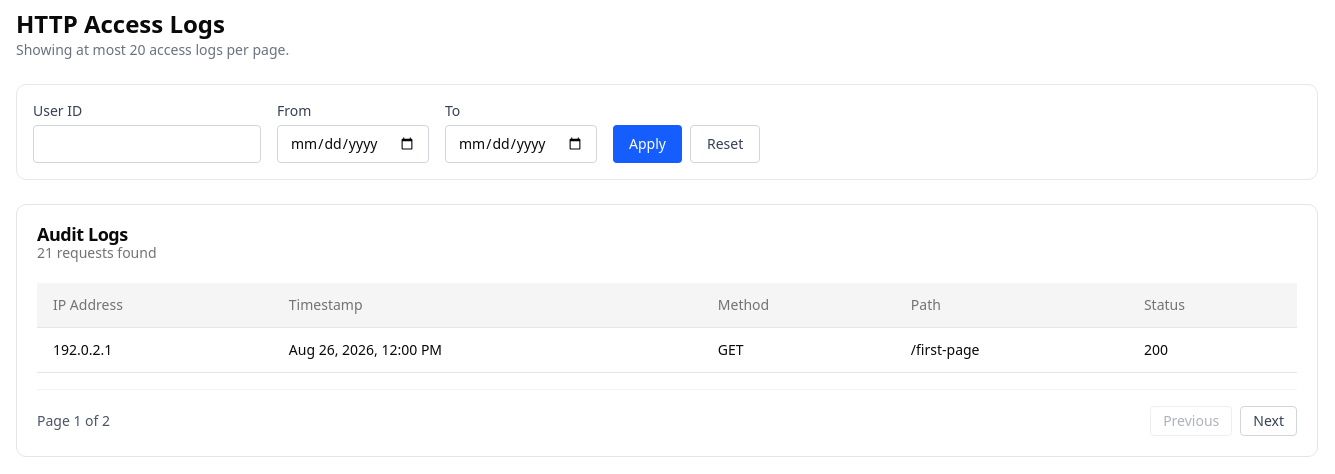
Scenario: AdminAuditLogsPage › requests the next bounded page when pagination advances
Expected: the text "/first-page" is shown, x1=895 y1=328 x2=1128 y2=372
Click the button "Next" at (1269, 421), box x1=1240 y1=406 x2=1297 y2=436
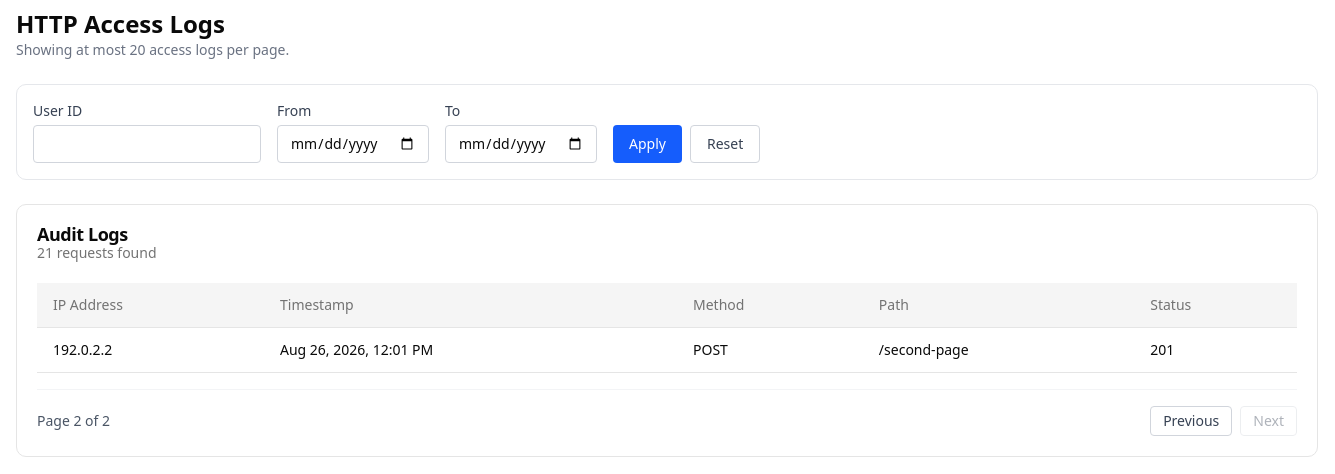
Now the text "/second-page" is shown, box x1=863 y1=328 x2=1134 y2=372
